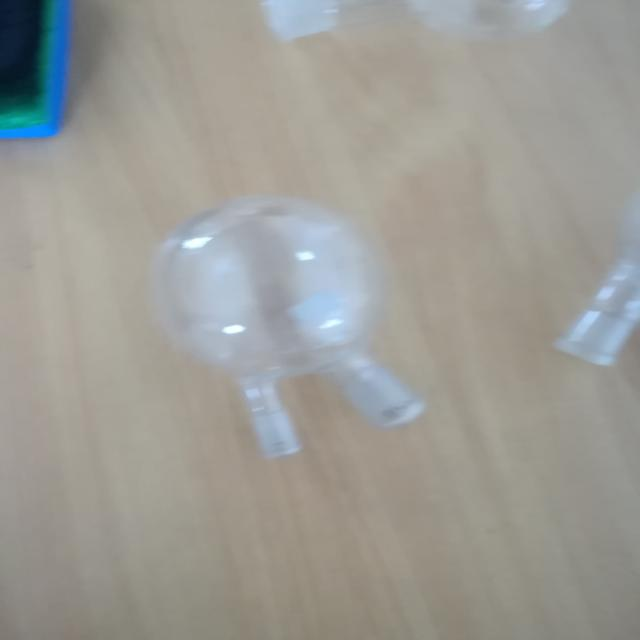Round_Bottom_Flask_Borosilicate_Glass_2_Neck: (104, 184, 447, 476)
